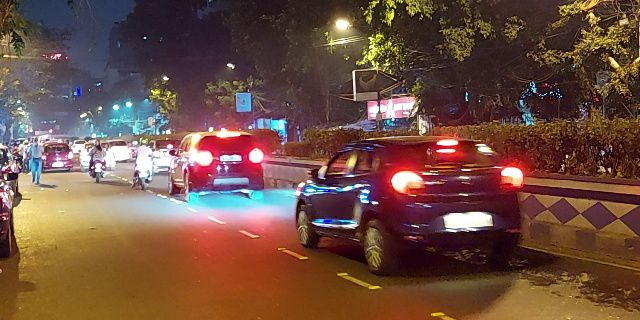Car: (319, 138, 534, 282), (177, 122, 270, 200)
Motorbike: (84, 133, 106, 184)
